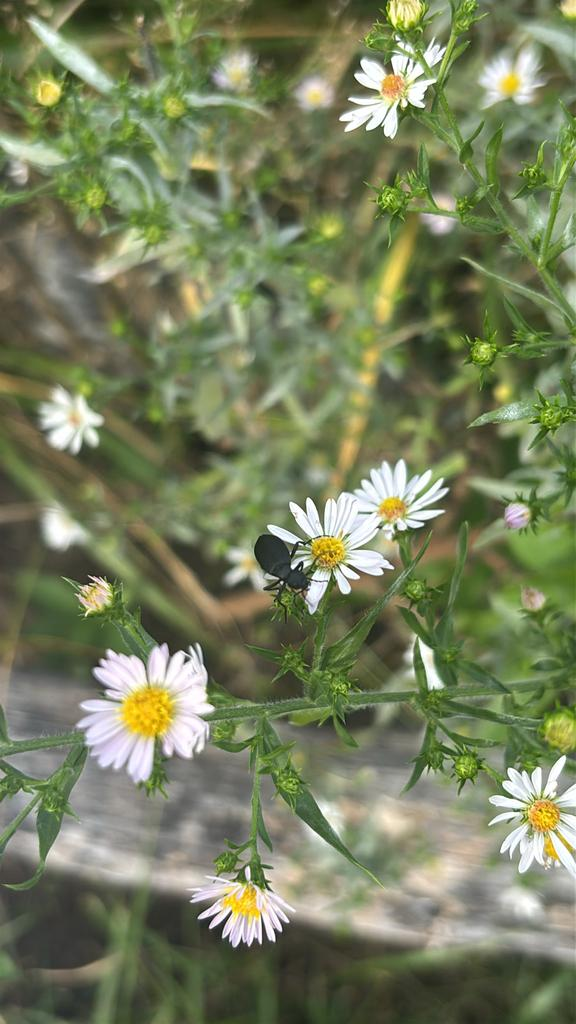blister_beetle: (226, 506, 343, 636)
